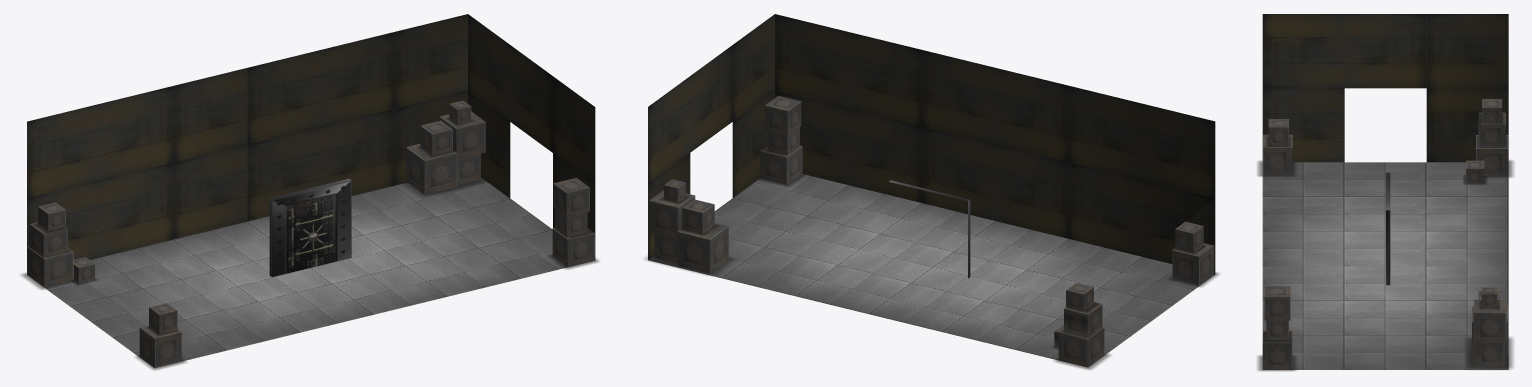
File: room_19.glb
3 views of the same model, side by side, from view 1: azimuth 30°, elevation 25°; view 2: azimuth 150°, elevation 25°; view 3: azimuth 270°, elevation 25° (orthographic). The views are drawn at different scales.
Visible parts, largest first — view 1: wall, floor, VaultDoorCover, CBMetalBoxSides (×4), C1MetalBox3 (×3), F1MetalBox5, CBMetalCrate_v2_s1_CBMetalBoxSides, F1MetalBox2, F1MetalBox3, F1MetalBox; view 2: wall, floor, CBMetalBoxSides (×4), C1MetalBox3 (×3), F1MetalBox5, CBMetalCrate_v2_s1_CBMetalBoxSides, F1MetalBox2, F1MetalBox3, F1MetalBox; view 3: floor, wall, CBMetalBoxSides (×5), C1MetalBox3 (×3), F1MetalBox2, CBMetalCrate_v2_s1_CBMetalBoxSides, F1MetalBox, F1MetalBox1Shadow, VaultDoorCover, F1MetalBox4, F1MetalBox5.
Boxes of the visible parts, x1,y1,x2,y2 form: wall: (27,14,595,274); floor: (27,177,594,368); VaultDoorCover: (269,178,351,277); CBMetalBoxSides (×4): (29,207,181,367); C1MetalBox3 (×3): (552,178,594,266); F1MetalBox5: (406,144,457,194); CBMetalCrate_v2_s1_CBMetalBoxSides: (27,247,73,286); F1MetalBox2: (439,111,485,159); F1MetalBox3: (420,120,452,155); F1MetalBox: (457,153,480,184); wall: (648,14,1215,274); floor: (648,174,1214,367); CBMetalBoxSides (×4): (1064,226,1214,337); C1MetalBox3 (×3): (760,96,802,184); F1MetalBox5: (677,223,728,273); CBMetalCrate_v2_s1_CBMetalBoxSides: (1058,327,1104,367); F1MetalBox2: (649,190,695,237); F1MetalBox3: (682,199,714,234); F1MetalBox: (654,232,677,263); floor: (1262,162,1508,369); wall: (1262,14,1508,162); CBMetalBoxSides (×5): (1263,107,1505,183); C1MetalBox3 (×3): (1262,286,1292,369); F1MetalBox2: (1474,299,1506,342); CBMetalCrate_v2_s1_CBMetalBoxSides: (1476,149,1508,175); F1MetalBox: (1475,342,1504,366); F1MetalBox1Shadow: (1466,337,1512,369); VaultDoorCover: (1386,172,1390,285); F1MetalBox4: (1482,287,1497,307); F1MetalBox5: (1472,306,1508,354).
Bounding box in the file's own units: 93.57 × 30.54 × 48.25.
9 materials, 9 textured.
